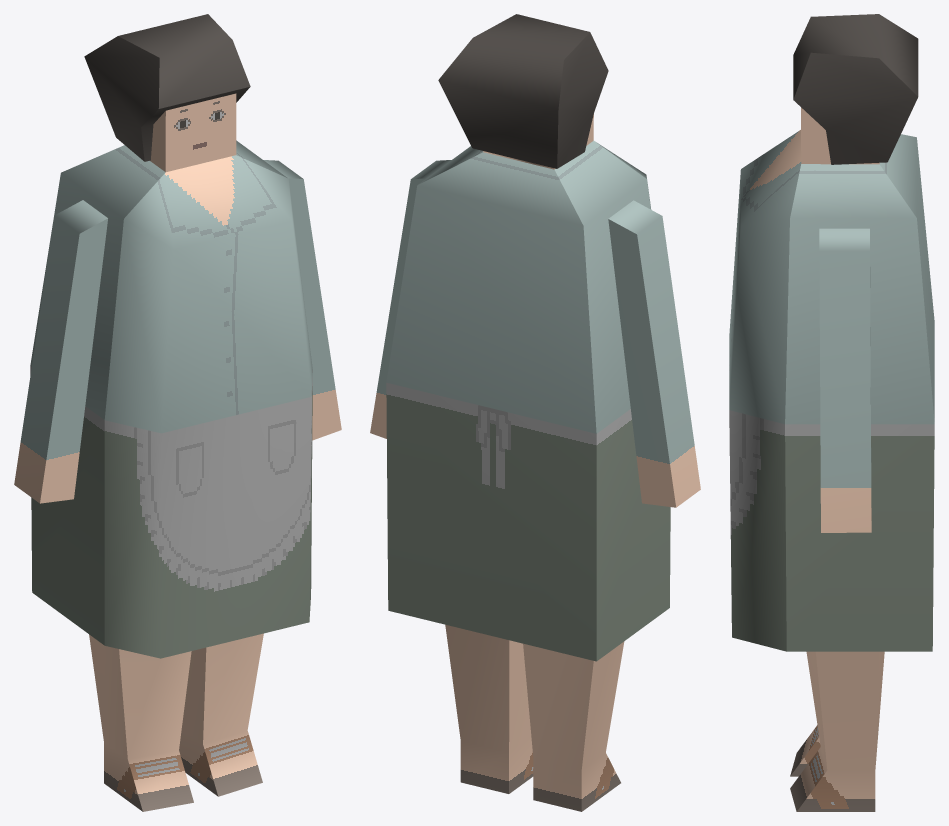
The model's file is 0581_Loud_Momma.glb.
The picture shows the model from 3 angles, left to right: view 1: azimuth 30°, elevation 25°; view 2: azimuth 150°, elevation 25°; view 3: azimuth 270°, elevation 25°; orthographic projection.
Visible parts, largest first — view 1: part_0; view 2: part_0; view 3: part_0.
Part boxes in pixels (<box>): part_0: <box>14,14,341,811</box>; part_0: <box>370,14,700,811</box>; part_0: <box>729,14,934,811</box>.
Bounding box in the file's own units: 0.7607 × 1.78 × 0.4435.
Materials: 1 (1 with a texture image).
